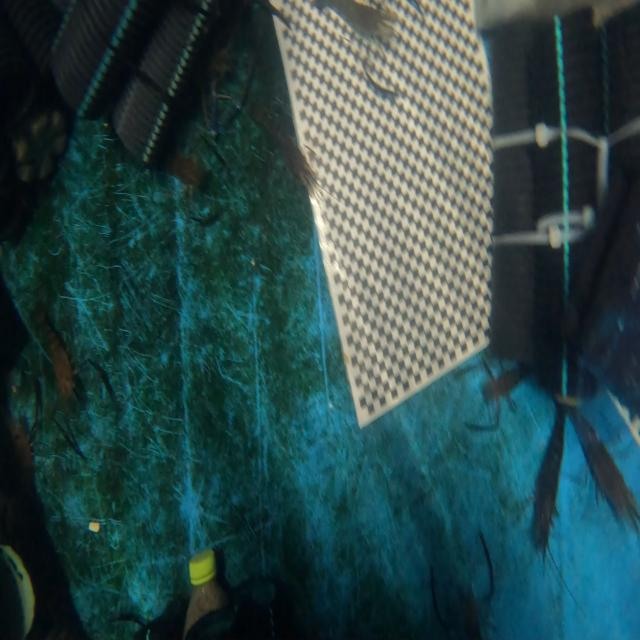prawn: (534, 397, 634, 550), (533, 407, 565, 552), (311, 0, 388, 39), (271, 116, 310, 191), (43, 329, 73, 396), (165, 153, 206, 188), (483, 368, 521, 400)
